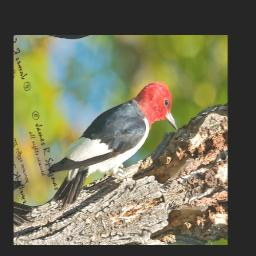Woodpecker: (32, 76, 192, 216)
